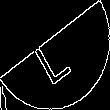L_NW: (32, 25, 78, 85)
